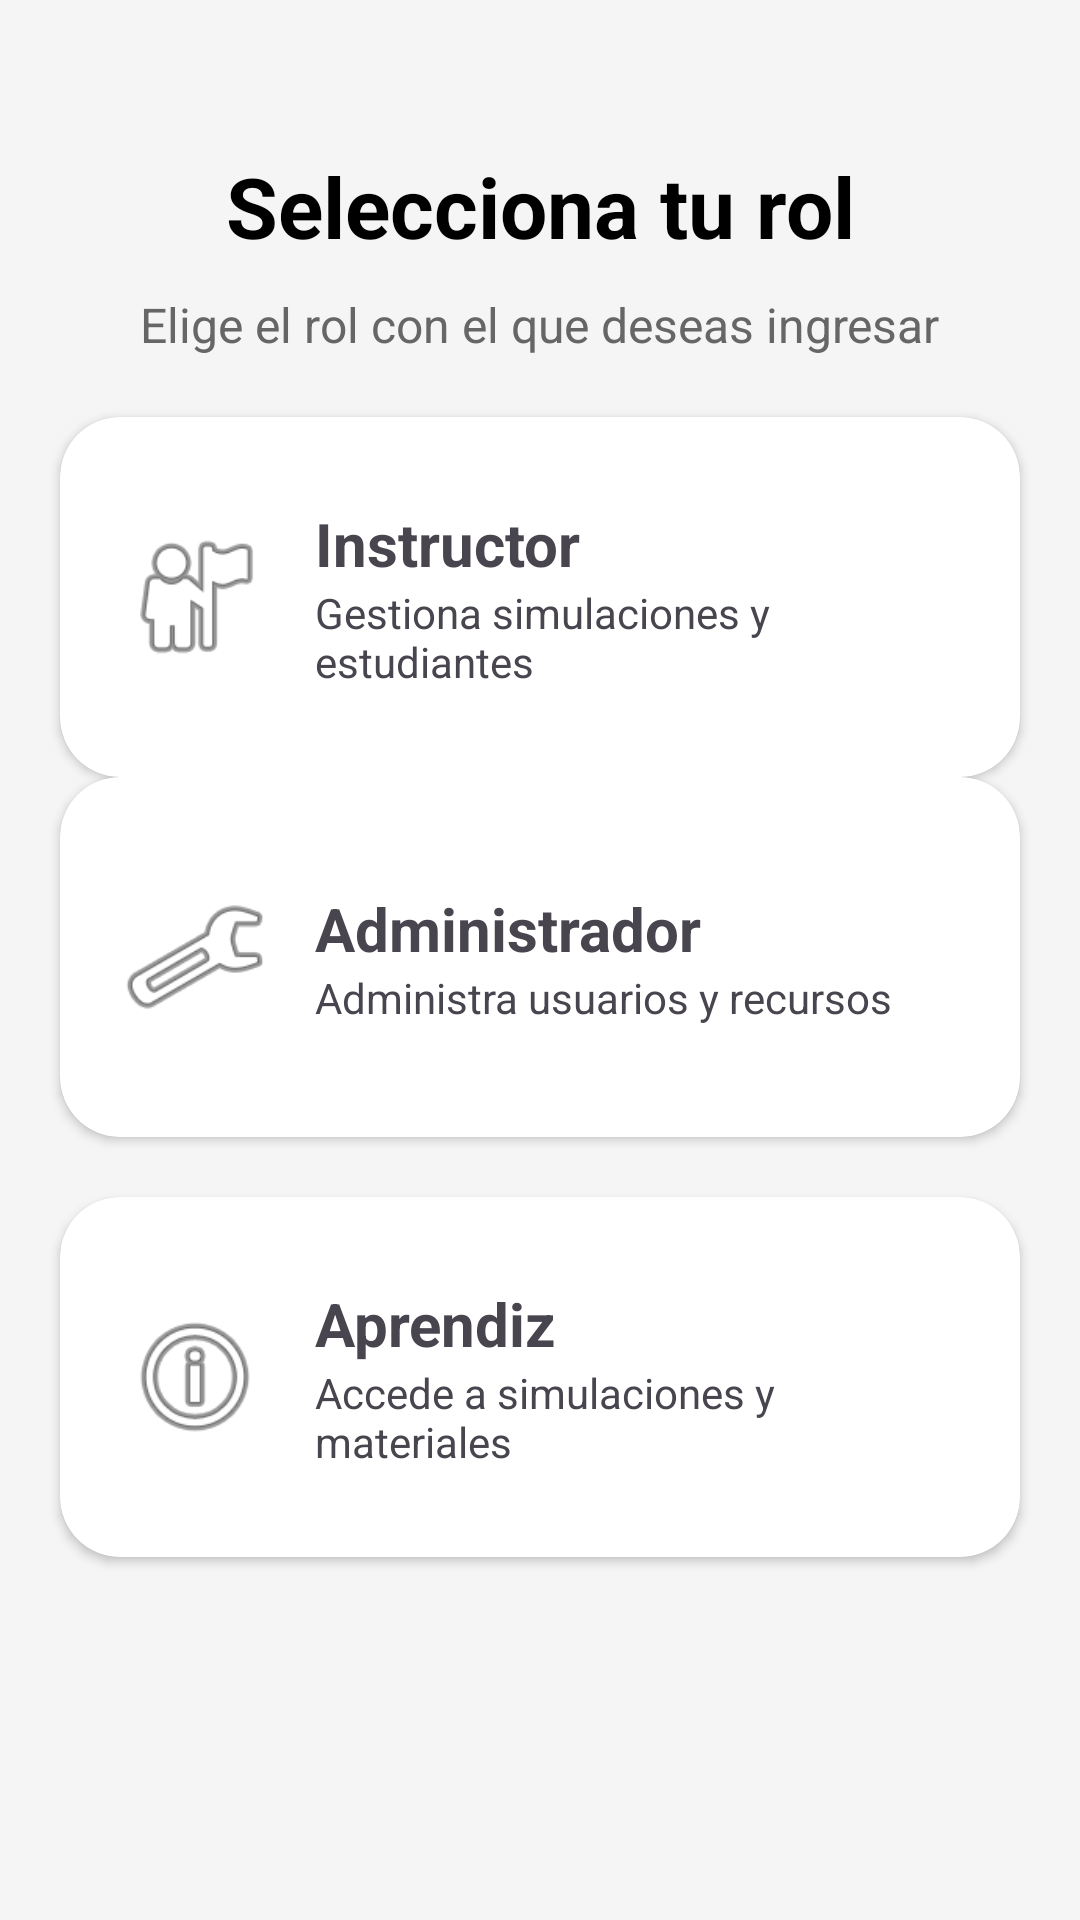

Point at icon controls on the screen. Image size 1080 x 1920, points as (x,y).
info details: (195,1377)
manage: (195,957)
